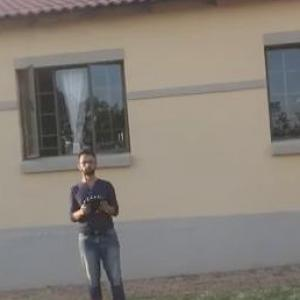follow: (65, 144, 135, 299)
